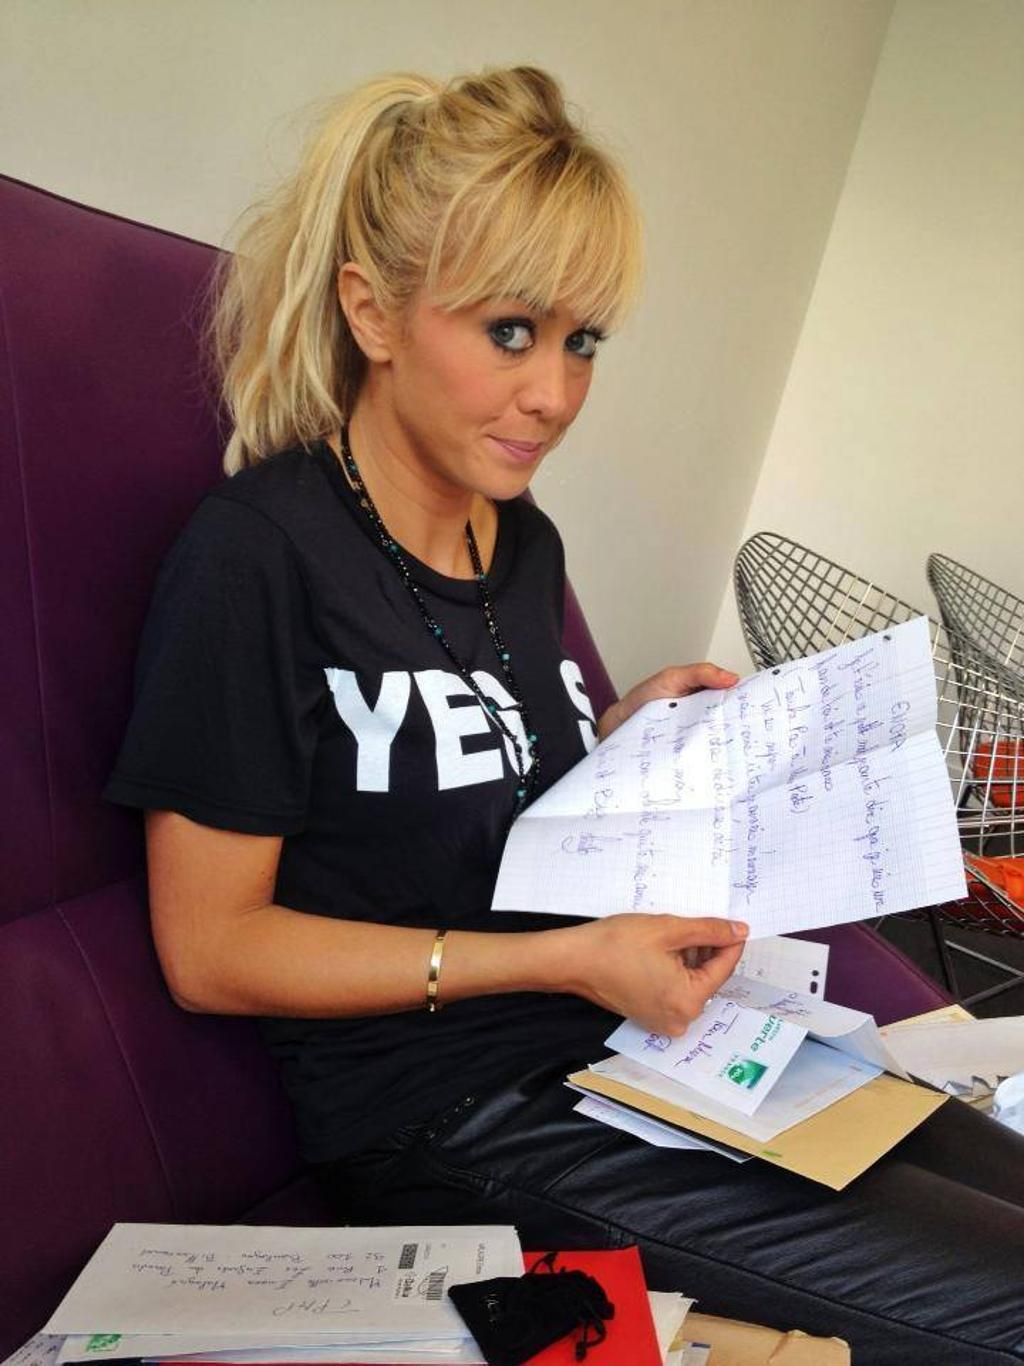face: (397, 221, 602, 496)
